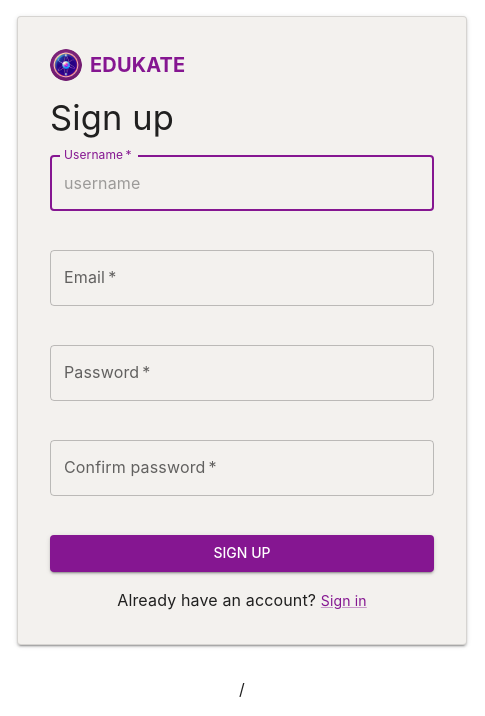
Test: SignUpPage › navigates to /sign-in when the sign in link is clicked
The width and height of the screenshot is (485, 716).
Expected: the text with test id "pathname" reads "/", left=239, top=679, right=245, bottom=699
Click the link "Sign in".
click(344, 600)  # box left=321, top=592, right=367, bottom=609
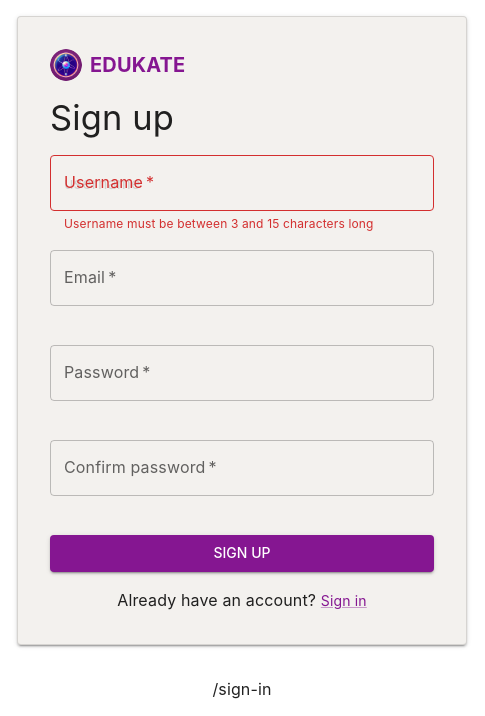
Result: the text with test id "pathname" reads "/sign-in" at left=212, top=679, right=272, bottom=699
